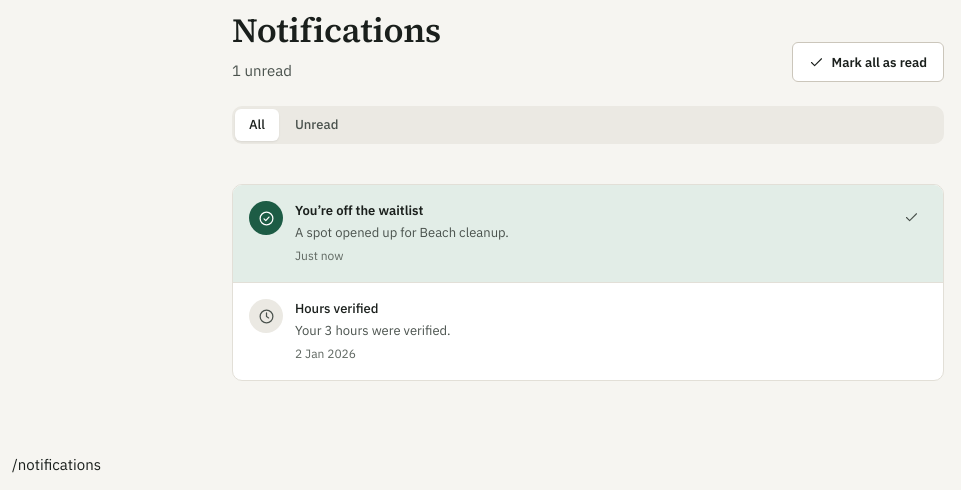
Notifications page › marks one notification read without leaving the page
Click the button named "Mark “You’re off the waitlist” as read". click: (911, 217)
box: [895,201,927,233]
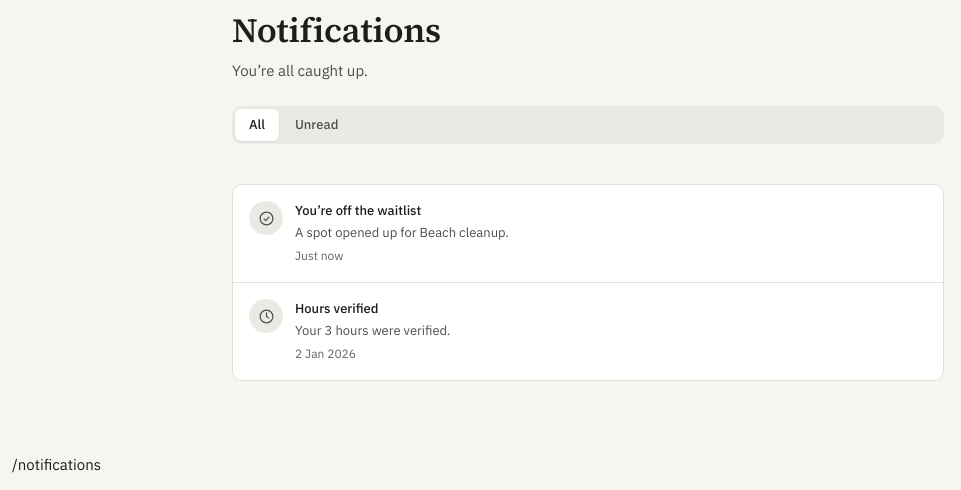
Check: the text "You’re all caught up." is shown, box [232,61,368,80]
